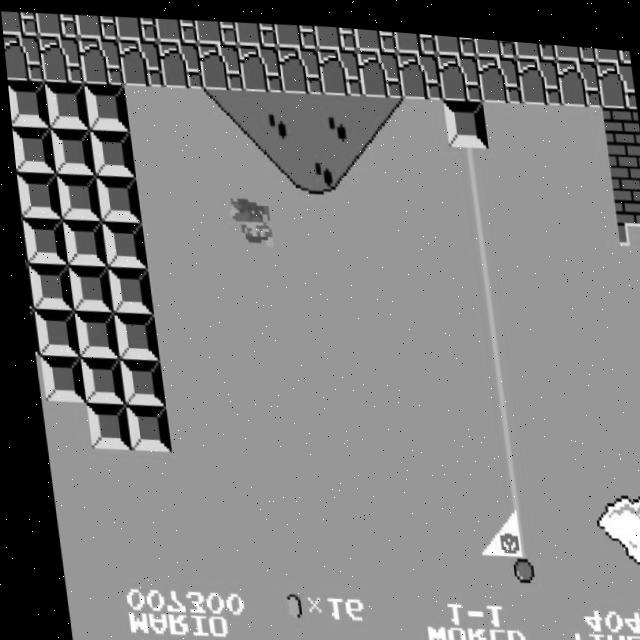11- little_mario: (221, 193, 270, 245)
17- undestructible_block: (36, 33, 83, 83), (76, 34, 123, 84), (116, 36, 163, 86), (156, 37, 203, 87), (395, 44, 442, 94), (435, 45, 482, 95), (475, 46, 522, 96), (515, 47, 562, 97), (555, 49, 602, 98), (196, 38, 242, 88), (236, 39, 282, 89), (276, 40, 322, 90), (316, 42, 362, 91), (356, 43, 402, 92), (2, 32, 43, 81), (595, 50, 635, 99), (114, 13, 158, 40), (154, 14, 198, 41), (194, 15, 238, 42), (273, 17, 317, 44), (234, 16, 277, 43), (34, 11, 78, 37), (74, 12, 118, 38), (313, 20, 357, 46), (353, 23, 397, 46), (393, 25, 437, 48), (1, 10, 38, 36), (433, 28, 476, 48), (473, 30, 516, 50), (513, 33, 556, 52), (553, 35, 596, 52), (593, 38, 630, 53)
7- goal_pole: (486, 503, 533, 553), (455, 228, 502, 278), (450, 183, 497, 232), (445, 137, 492, 186), (491, 549, 537, 599), (466, 320, 512, 370), (476, 412, 522, 461), (471, 366, 517, 415), (461, 275, 507, 324), (481, 458, 527, 506)
9- hard_block: (32, 353, 79, 403), (41, 79, 88, 129), (111, 355, 158, 405), (86, 126, 133, 176), (81, 80, 128, 130), (440, 91, 487, 141), (27, 307, 73, 357), (72, 354, 118, 404), (67, 308, 113, 358), (47, 125, 93, 175), (107, 309, 153, 359), (77, 401, 124, 449), (22, 262, 68, 311), (17, 216, 63, 265), (62, 263, 108, 312), (57, 217, 103, 266), (52, 171, 98, 220), (102, 264, 148, 313), (97, 218, 143, 267), (117, 402, 163, 450), (92, 173, 138, 221), (13, 170, 58, 219), (9, 124, 53, 174), (6, 78, 47, 127), (23, 308, 33, 354), (16, 216, 23, 262), (20, 263, 27, 308)
